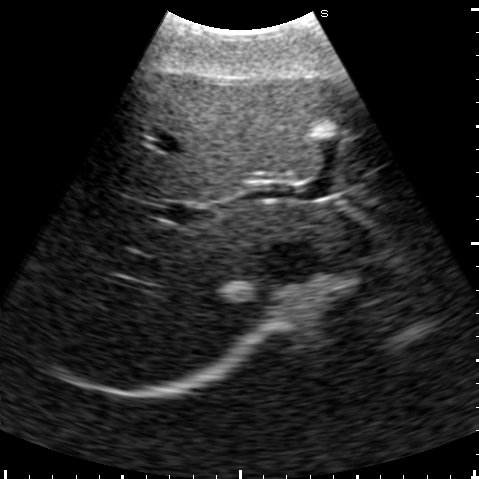IVC: (263, 243, 315, 278)
S1: (284, 207, 367, 264)
S2: (345, 198, 424, 232)
S3: (336, 83, 415, 199)
S4: (128, 76, 343, 200)
Tumor: (221, 280, 253, 300), (307, 120, 336, 137)
